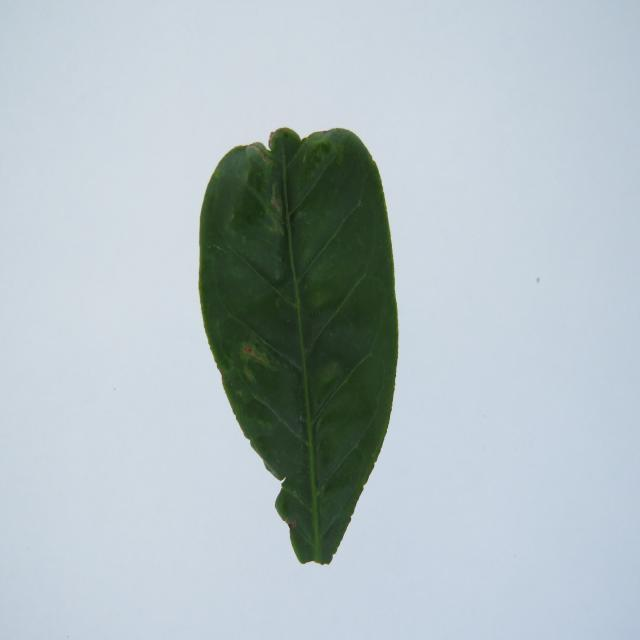DeficienciaNutricional-Boro: (199, 128, 398, 563)
